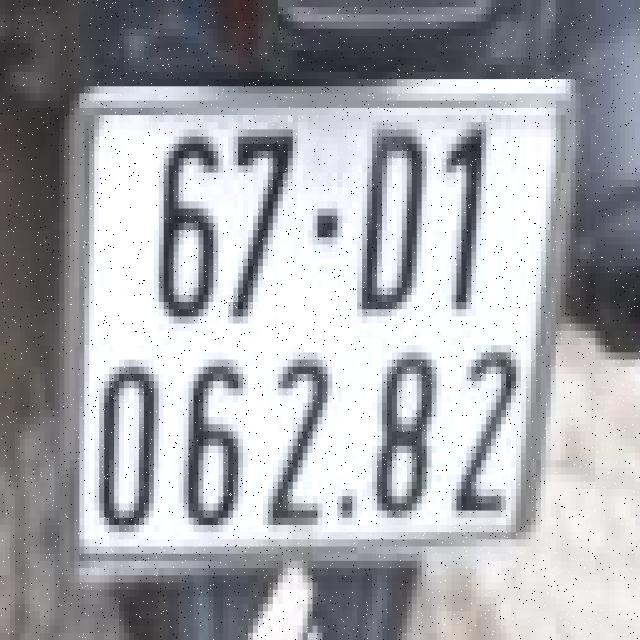0: (97, 356, 161, 536)
1: (442, 115, 496, 316)
2: (451, 338, 511, 525), (265, 356, 325, 536)
6: (149, 122, 218, 331), (184, 352, 248, 546)
7: (223, 104, 313, 334)
8: (367, 331, 442, 525)
D: (357, 112, 427, 327)
